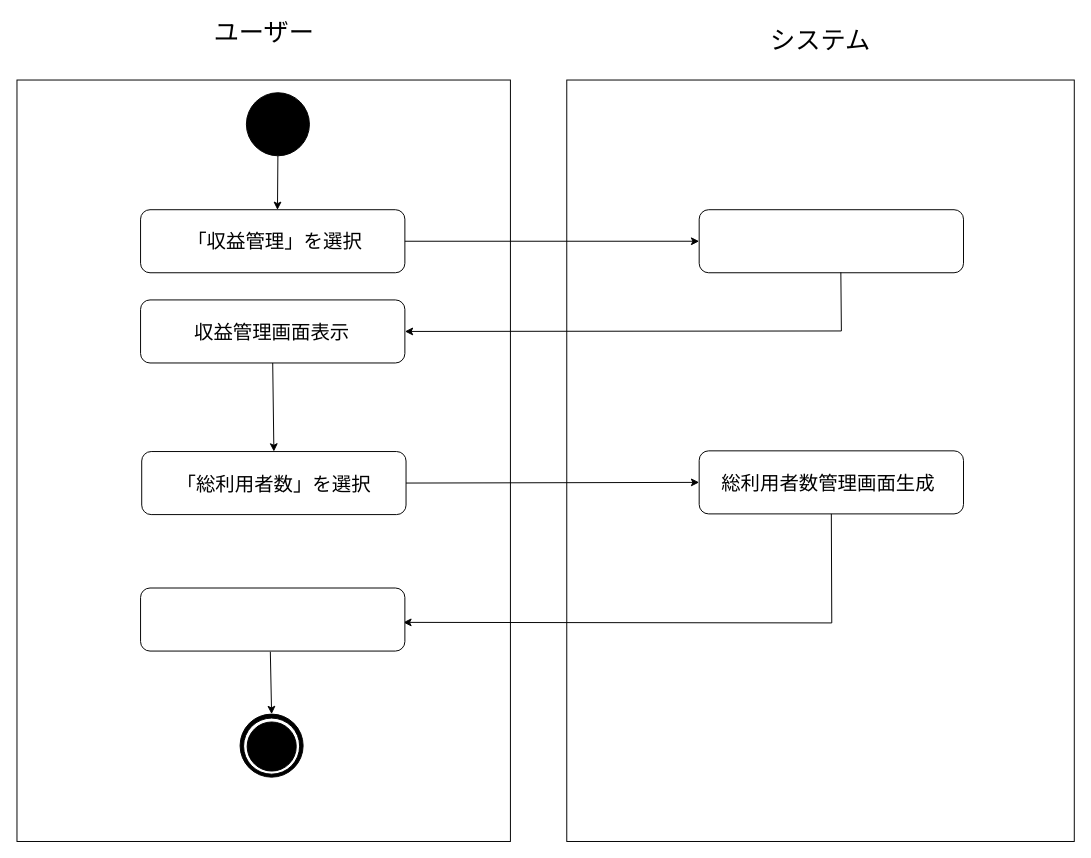
This 1091x858 diagram has some shape labels left out. The centre of each missing label's shape, as x and y in pixels:
収益管理画面生成: [831,241]
総利用者数管理 画面表示: [272,619]
